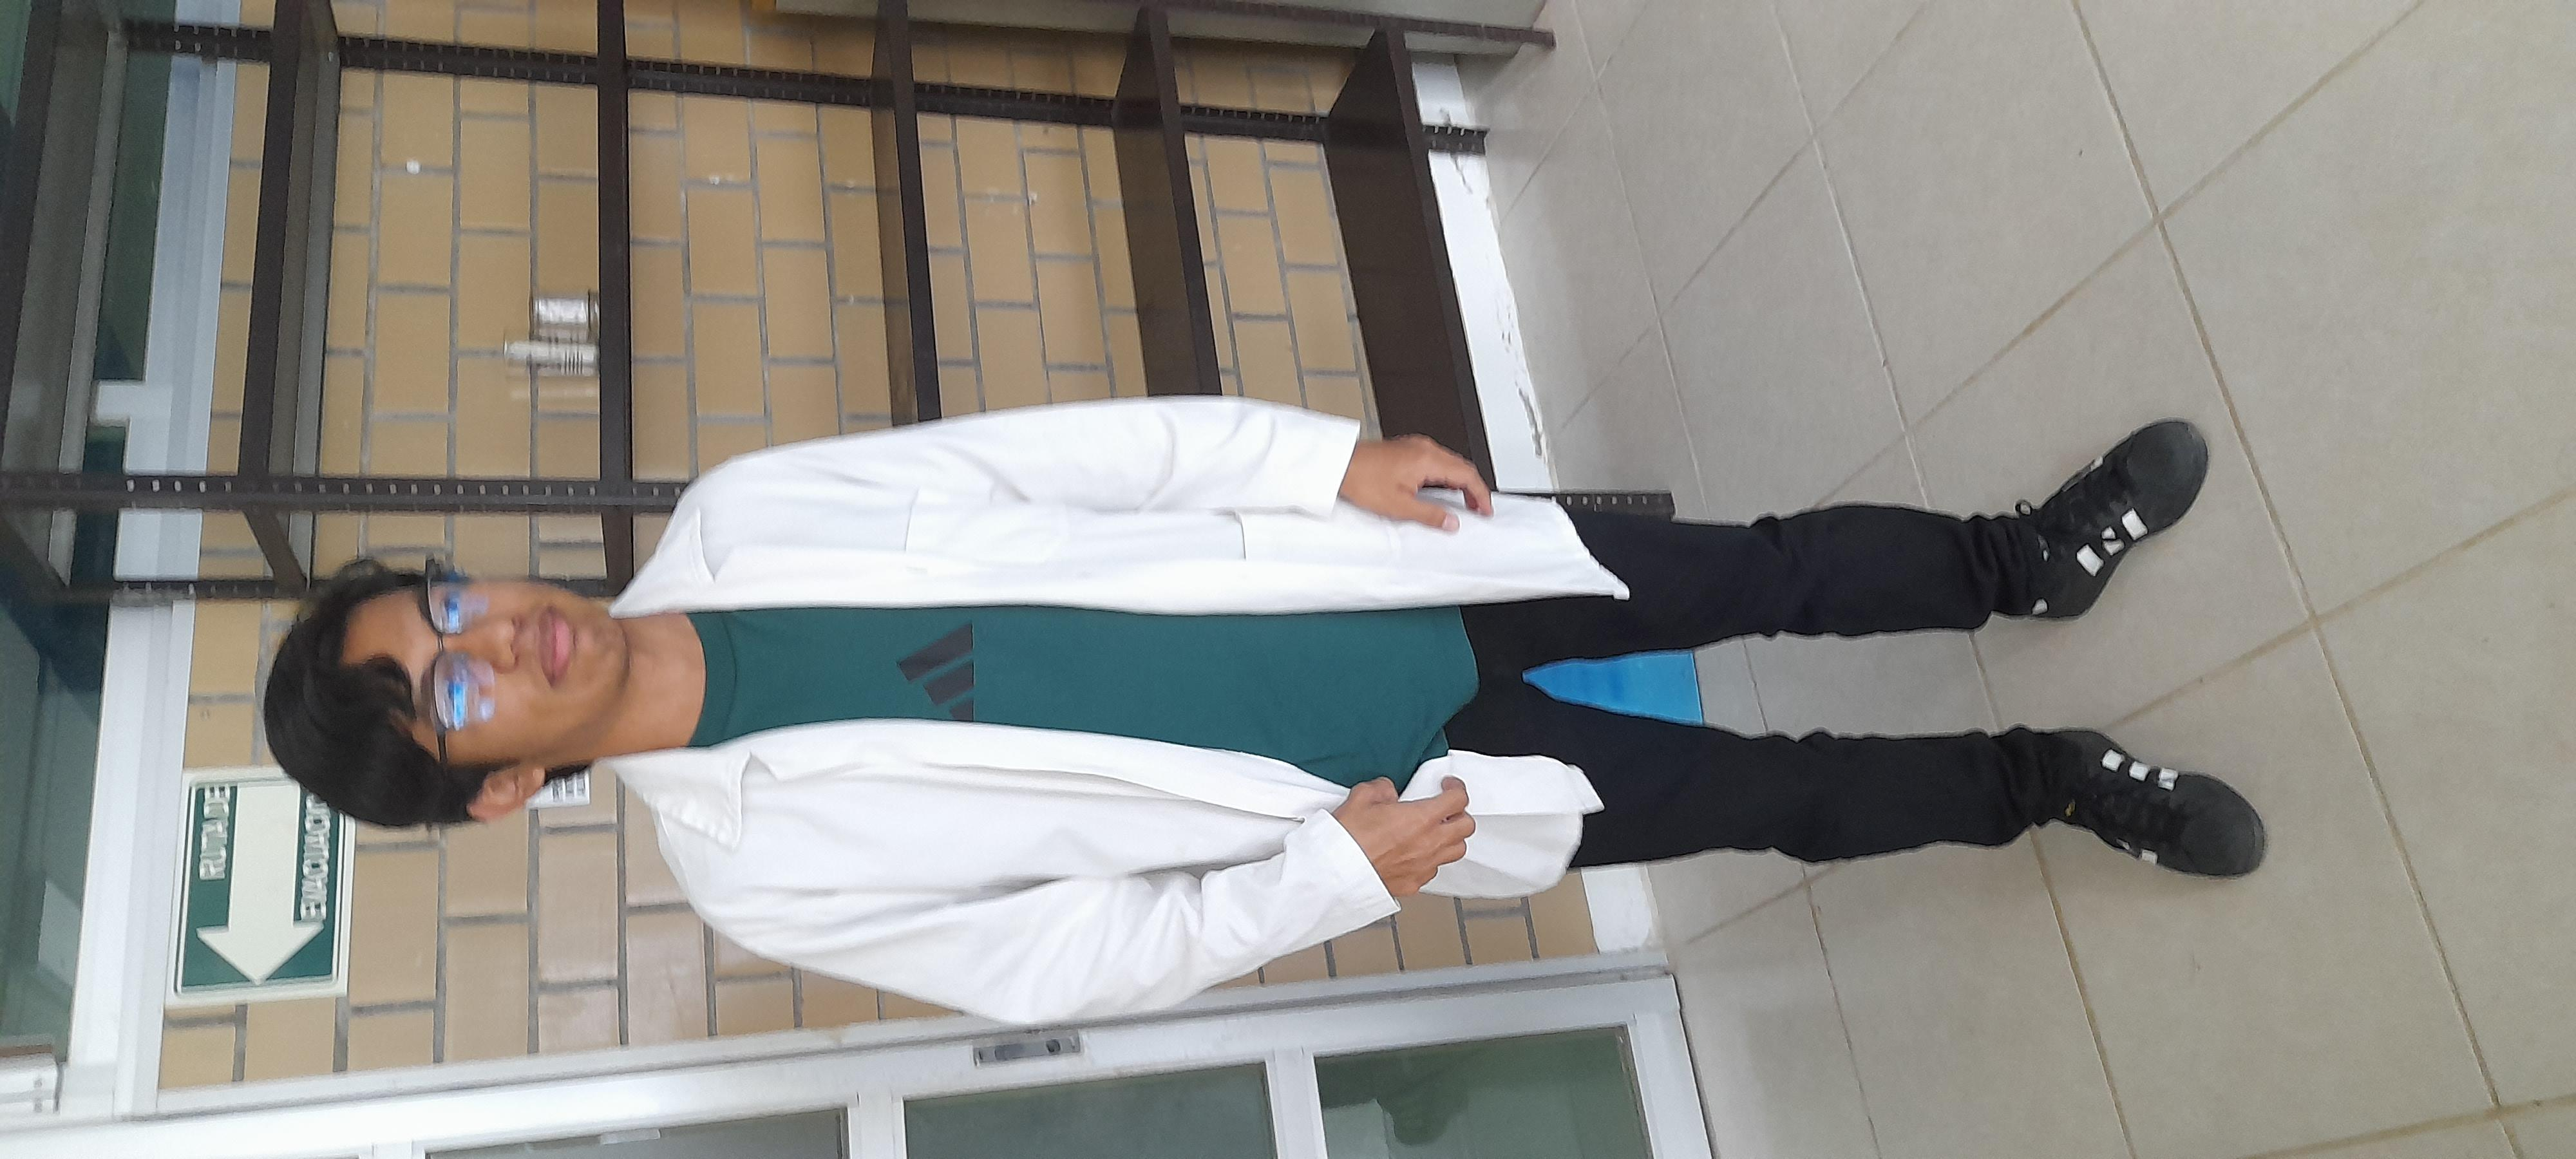Bata-Incorrecta: (258, 117, 1847, 1026)
